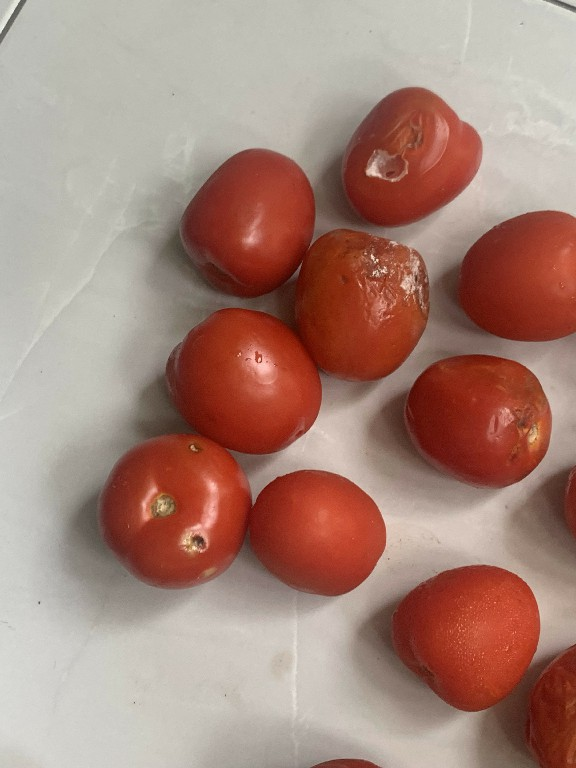NG: (89, 429, 246, 589), (290, 224, 432, 385), (337, 75, 487, 225), (400, 351, 552, 489)
OK: (158, 304, 323, 459), (389, 562, 544, 718), (178, 141, 316, 294), (251, 468, 388, 602), (456, 209, 576, 344)
